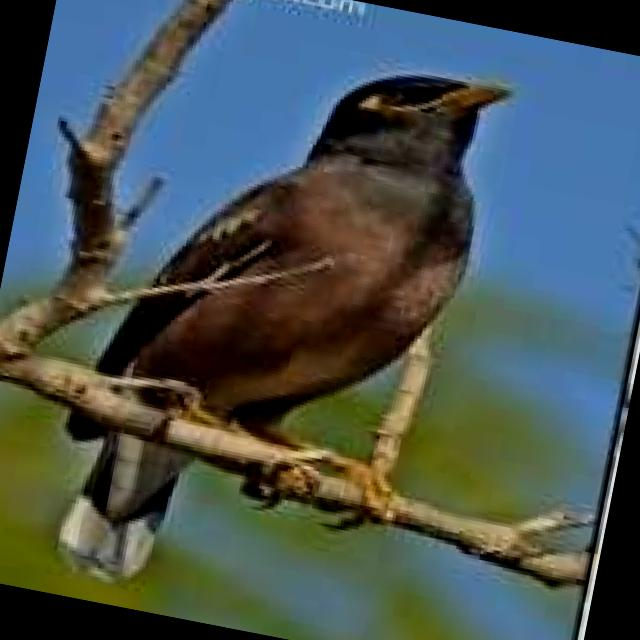bird: (39, 0, 534, 640)
